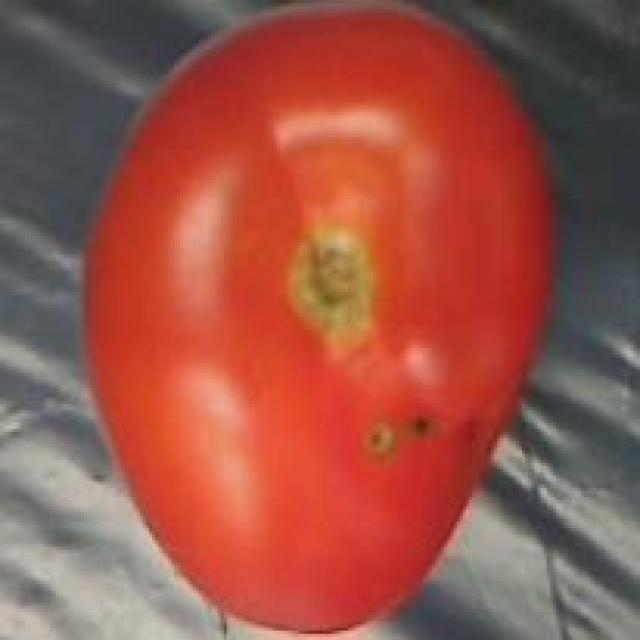overripe tomato: (68, 3, 560, 640)
